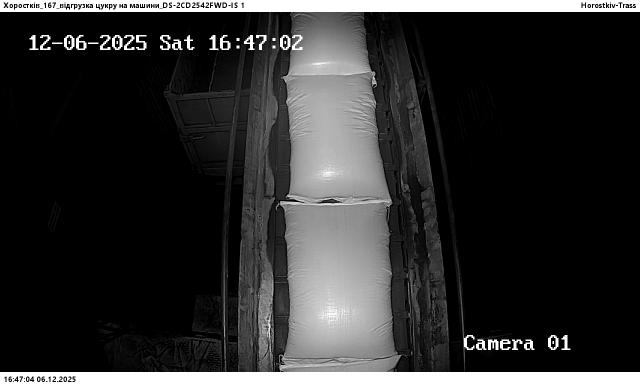bag: (280, 201, 398, 364), (284, 75, 392, 204), (286, 12, 375, 85)
